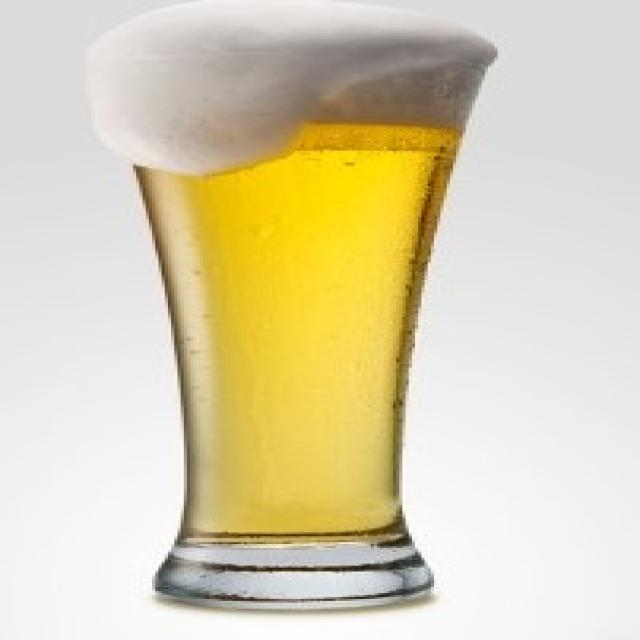electronic: (88, 32, 517, 611)
